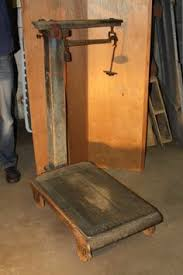Industrial Scale: (29, 16, 164, 264)
